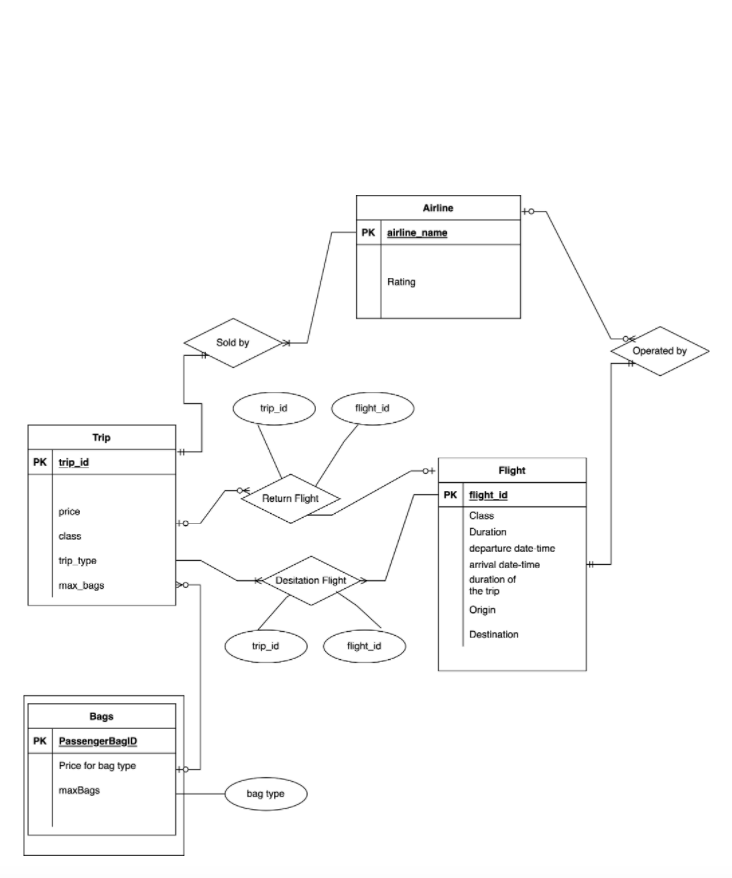entity: (438, 457, 585, 670), (26, 425, 174, 603), (355, 193, 519, 317)
many: (173, 573, 197, 597), (234, 480, 256, 499), (244, 567, 261, 591), (610, 330, 634, 344), (356, 573, 381, 586), (278, 337, 301, 349)
one: (519, 200, 551, 226), (584, 552, 610, 573), (412, 460, 436, 482), (174, 758, 197, 778), (174, 515, 196, 533), (176, 442, 197, 460), (615, 357, 638, 372), (194, 349, 213, 358)
rel: (234, 472, 339, 528), (612, 325, 708, 379), (261, 553, 358, 605), (185, 317, 277, 366)
rel_attr: (231, 391, 317, 426), (333, 391, 414, 425), (225, 631, 307, 664), (324, 629, 406, 661), (225, 779, 307, 811)
weak_entity: (24, 692, 185, 853)
